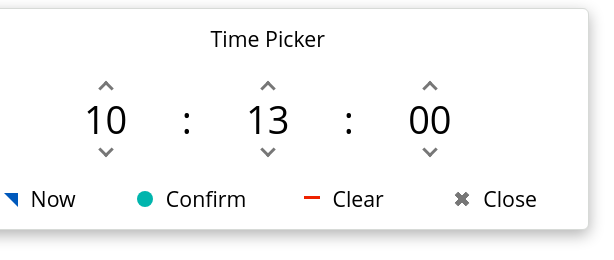
Test: TimePickerComponent › should increase one hour if hour arrow up element was clicked
Click the 1st element with class "arrow" at {"x": 106, "y": 88}, box [98,81,113,96]
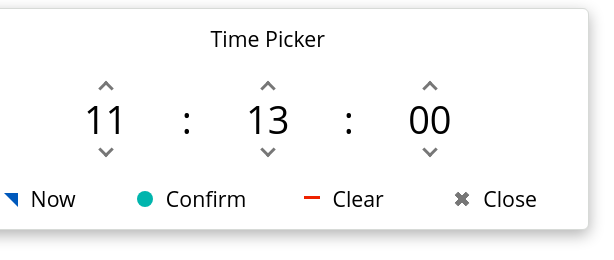
Expected: the list item with class "hour" reads "11", [84,93,127,145]
